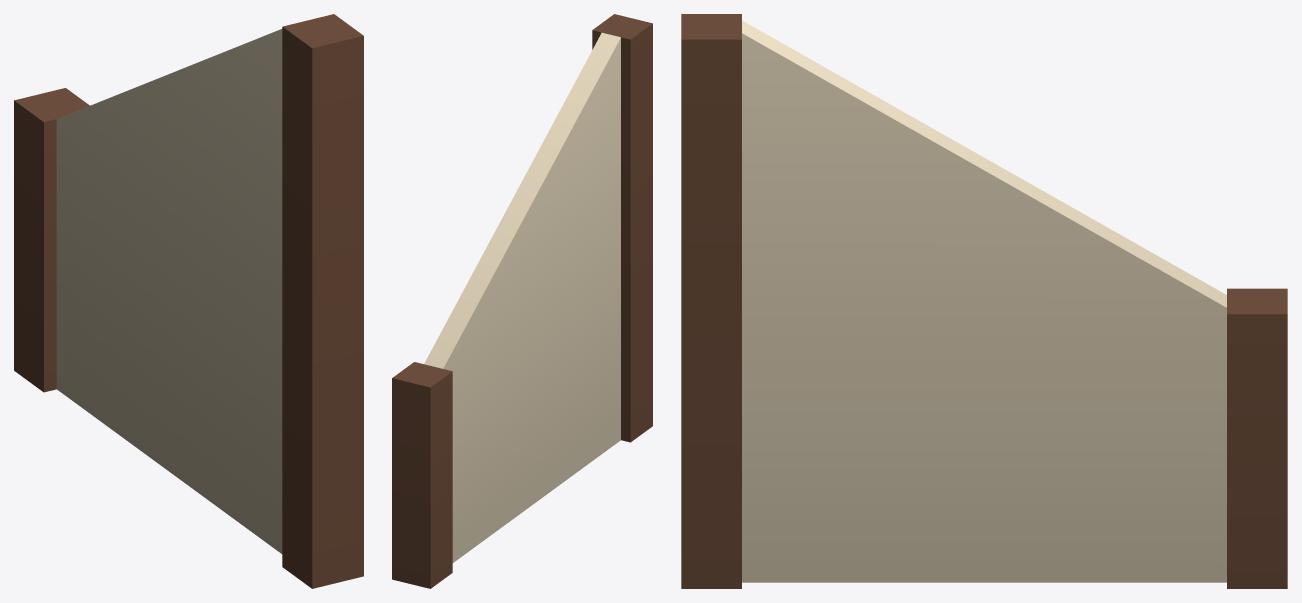
Rendered from wall-slope.glb.
3 views of the same model, side by side, from view 1: azimuth 30°, elevation 25°; view 2: azimuth 150°, elevation 25°; view 3: azimuth 270°, elevation 25° (orthographic). The views are drawn at different scales.
Parts seen in each view (by area): view 1: wall-slope; view 2: wall-slope; view 3: wall-slope.
Boxes of the visible parts, <box> form: wall-slope: <box>14,14,363,588</box>; wall-slope: <box>392,14,652,588</box>; wall-slope: <box>681,14,1287,588</box>.
Bounding box in the file's own units: 0.1 × 1 × 1.
1 material, 1 textured.
